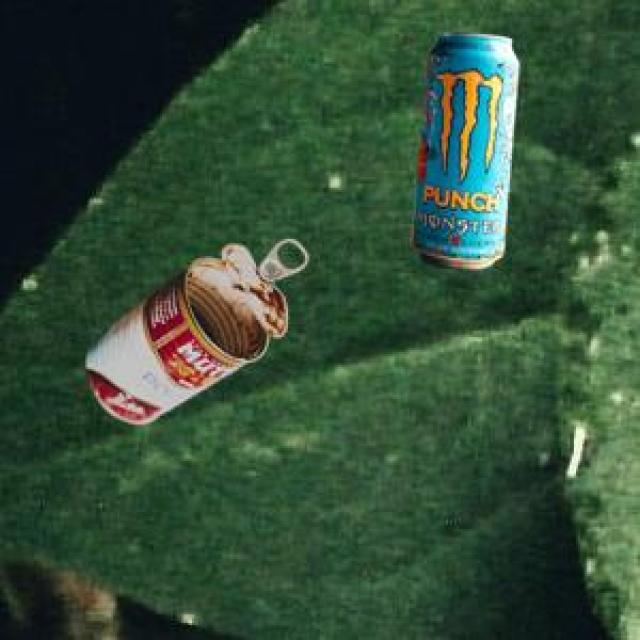logam: (82, 238, 304, 421), (409, 29, 515, 266)
